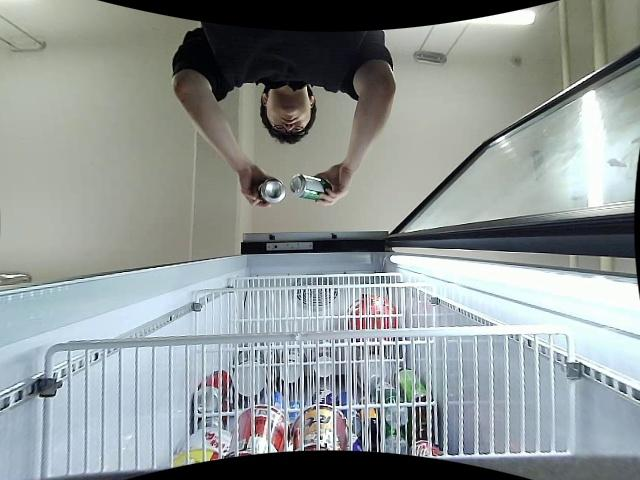00_hand: (239, 160, 283, 207), (313, 164, 354, 208)
12_chilsungCider: (289, 174, 332, 201), (255, 179, 286, 206)
